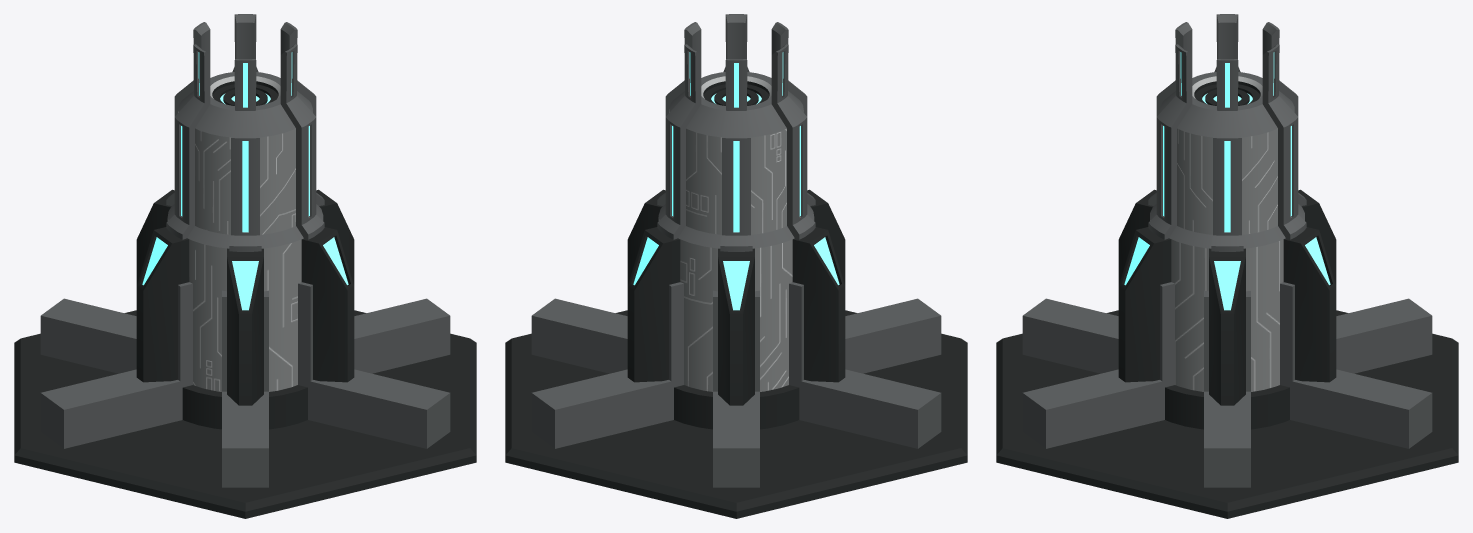
Rendered from OperationCenter.fbx.
The picture shows the model from 3 angles, left to right: view 1: azimuth 30°, elevation 25°; view 2: azimuth 150°, elevation 25°; view 3: azimuth 270°, elevation 25°; orthographic projection.
Parts seen in each view (by area): view 1: OperationCenter_LOD0; view 2: OperationCenter_LOD0; view 3: OperationCenter_LOD0.
Part boxes in pixels (bbox=[...]): OperationCenter_LOD0: bbox=[14, 14, 476, 518]; OperationCenter_LOD0: bbox=[505, 14, 967, 518]; OperationCenter_LOD0: bbox=[996, 14, 1458, 518].
Size of what is drawn, in the model's own units: 930 by 785 by 805.
Materials: 1 (1 with a texture image).
